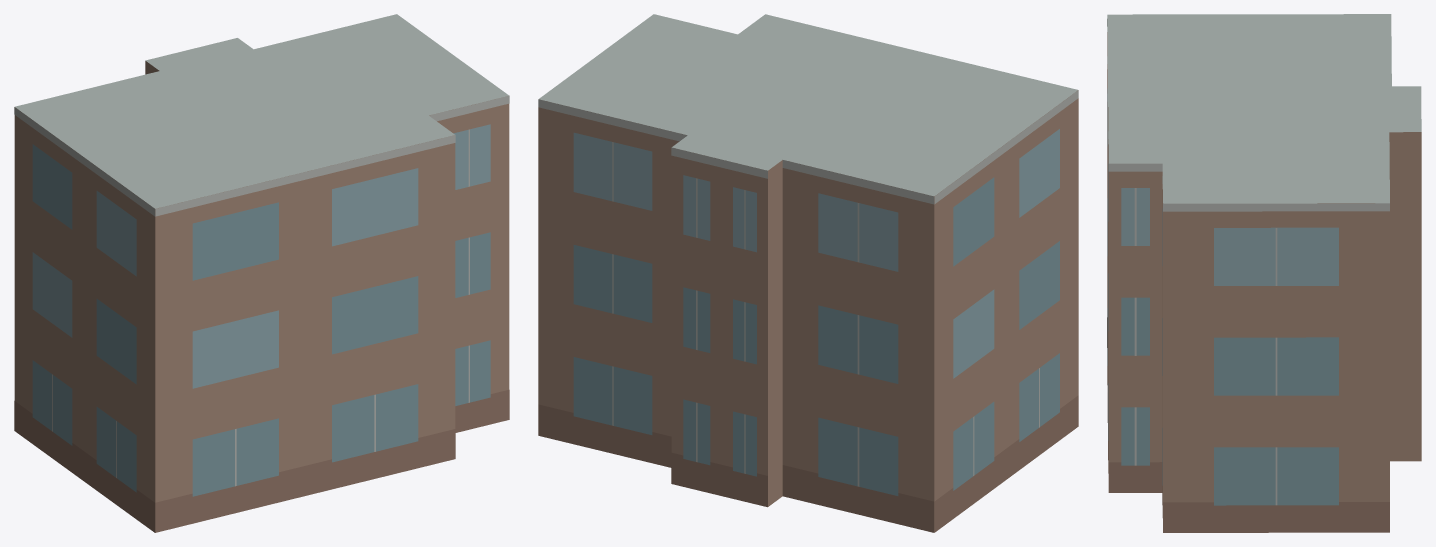
The model's file is survey-upis-32611993.glb.
The picture shows the model from 3 angles, left to right: view 1: azimuth 30°, elevation 25°; view 2: azimuth 150°, elevation 25°; view 3: azimuth 270°, elevation 25°; orthographic projection. The views are drawn at different scales.
Visible parts, largest first — view 1: survey-upis-32611993.tmp; view 2: survey-upis-32611993.tmp; view 3: survey-upis-32611993.tmp.
Part boxes in pixels (<box>): survey-upis-32611993.tmp: <box>14,14,509,532</box>; survey-upis-32611993.tmp: <box>538,14,1078,532</box>; survey-upis-32611993.tmp: <box>1107,14,1421,532</box>.
Bounding box in the file's own units: 12.49 × 10.1 × 8.75.
